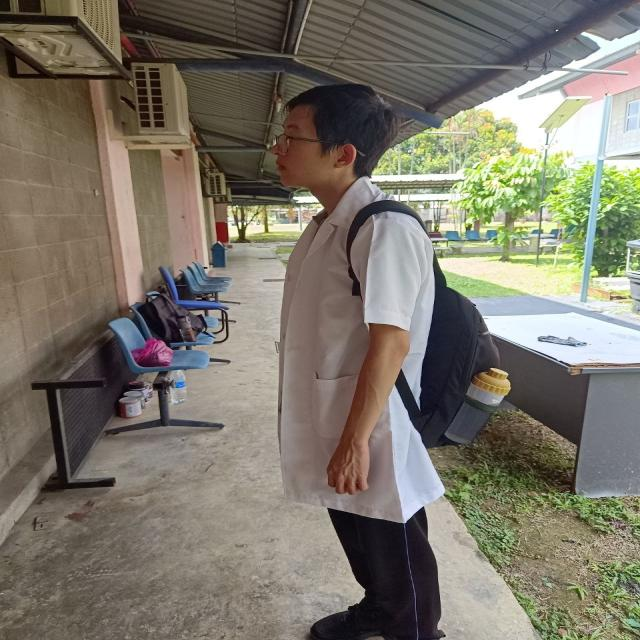person_with_labcoat: (271, 84, 444, 640)
